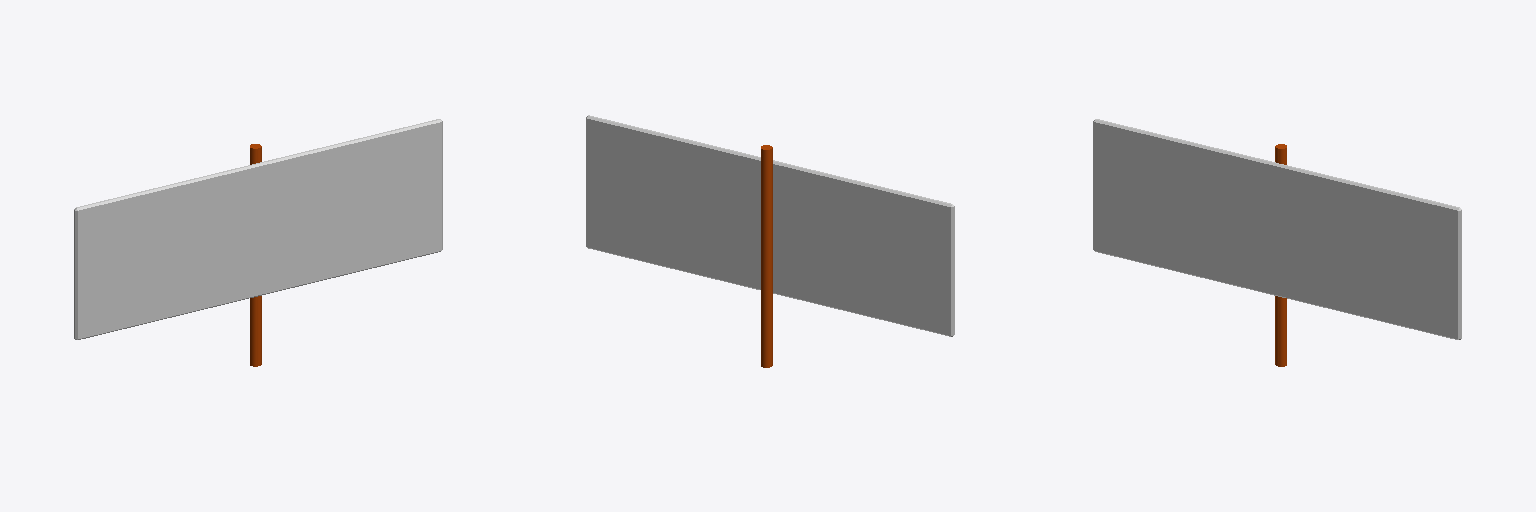
The model's file is uitlegbord.obj.
3 views of the same model, side by side, from view 1: azimuth 30°, elevation 25°; view 2: azimuth 150°, elevation 25°; view 3: azimuth 330°, elevation 25° (orthographic).
Parts seen in each view (by area): view 1: Cube, Cylinder; view 2: Cube, Cylinder; view 3: Cube, Cylinder.
Part boxes in pixels (left/top/right/bottom): Cube: left=74, top=119, right=442, bottom=339; Cylinder: left=250, top=144, right=261, bottom=366; Cube: left=586, top=115, right=954, bottom=336; Cylinder: left=761, top=145, right=772, bottom=367; Cube: left=1093, top=119, right=1461, bottom=339; Cylinder: left=1275, top=144, right=1286, bottom=366.
Size of the model in its own units: 1.96 by 1.11 by 0.0718.